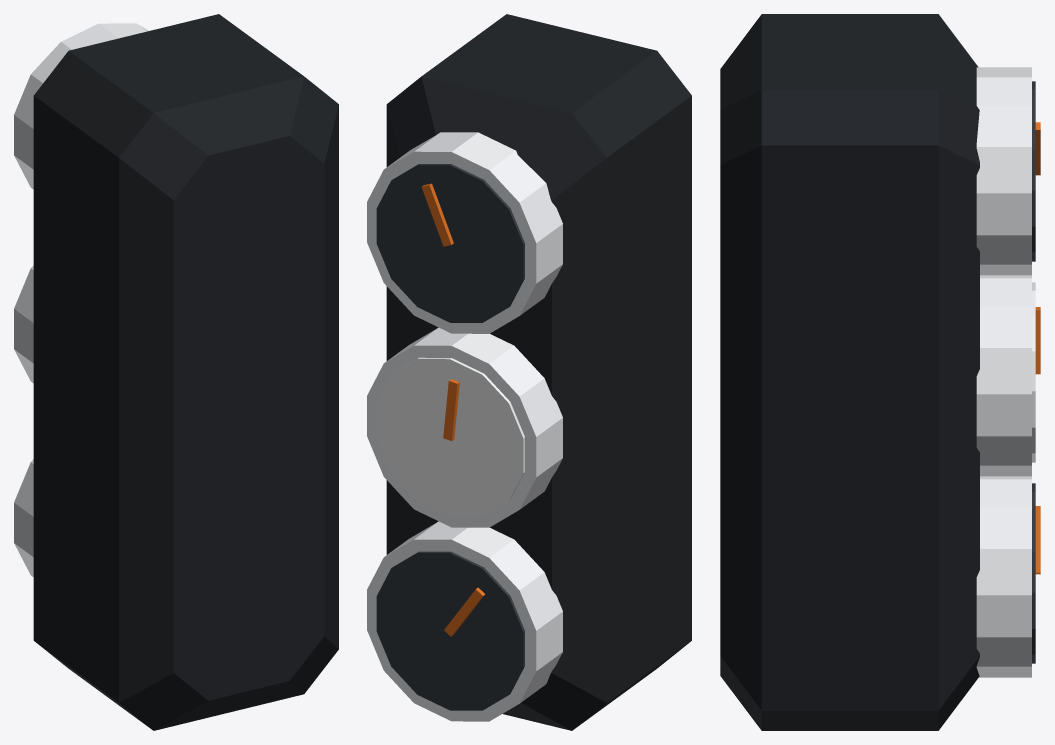
Rendered from apex_v8.glb.
3 renders of one model, left to right at view 1: azimuth 30°, elevation 25°; view 2: azimuth 150°, elevation 25°; view 3: azimuth 270°, elevation 25°, orthographic. The views are drawn at different scales.
Visible parts, largest first — view 1: model; view 2: model; view 3: model.
Boxes of the visible parts, <box> form: model: <box>14,14,338,730</box>; model: <box>367,14,691,730</box>; model: <box>720,14,1040,730</box>.
Size of the model in its own units: 0.076 by 0.204 by 0.0925.
Materials: 2 (1 with a texture image).
